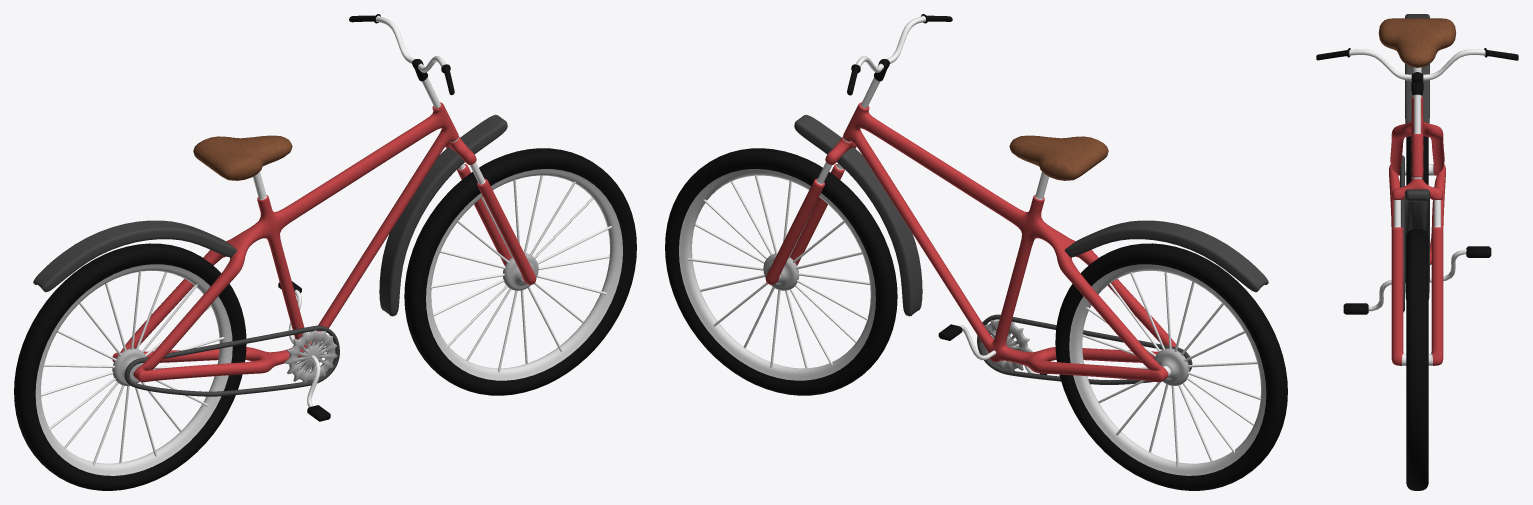
Rendered from bicycle.glb.
The picture shows the model from 3 angles, left to right: view 1: azimuth 30°, elevation 25°; view 2: azimuth 150°, elevation 25°; view 3: azimuth 270°, elevation 25°; orthographic projection.
Visible parts, largest first — view 1: bicycle_body_main_0, bicycle_wheel_forward_0, bicycle_wheel_back_0, bicycle_wheel_forward_1, bicycle_wheel_back_1, bicycle_cover_forward_0, bicycle_cover_back_0, bicycle_needles_forward_0, bicycle_needles_back_0, bicycle_seat_0, bicycle_body_forward_0, bicycle_chain_0 (+3 smaller); view 2: bicycle_body_main_0, bicycle_wheel_forward_0, bicycle_wheel_back_0, bicycle_wheel_forward_1, bicycle_wheel_back_1, bicycle_cover_forward_0, bicycle_cover_back_0, bicycle_needles_forward_0, bicycle_needles_back_0, bicycle_seat_0, bicycle_body_forward_0, bicycle_chain_0 (+4 smaller); view 3: bicycle_wheel_forward_0, bicycle_body_forward_0, bicycle_seat_0, bicycle_body_main_0, bicycle_cover_forward_0, bicycle_helm_1, bicycle_cover_back_0, bicycle_helm_0, bicycle_pedals_0, bicycle_wheel_back_0, bicycle_body_forward_1, bicycle_pedals_1 (+1 smaller).
Part boxes in pixels (x1,y1,x2,y2): bicycle_body_main_0: (112,102,458,382); bicycle_wheel_forward_0: (404,148,636,395); bicycle_wheel_back_0: (14,243,246,490); bicycle_wheel_forward_1: (426,169,622,380); bicycle_wheel_back_1: (35,264,232,475); bicycle_cover_forward_0: (379,114,507,316); bicycle_cover_back_0: (33,220,237,292); bicycle_needles_forward_0: (431,175,612,372); bicycle_needles_back_0: (41,270,224,465); bicycle_seat_0: (193,135,292,180); bicycle_body_forward_0: (445,137,536,284); bicycle_chain_0: (124,325,339,396); bicycle_body_main_0: (843,102,1178,382); bicycle_wheel_forward_0: (665,148,897,395); bicycle_wheel_back_0: (1055,243,1287,490); bicycle_wheel_forward_1: (679,169,875,380); bicycle_wheel_back_1: (1069,264,1266,475); bicycle_cover_forward_0: (794,114,922,316); bicycle_cover_back_0: (1064,220,1268,292); bicycle_needles_forward_0: (687,174,869,368); bicycle_needles_back_0: (1082,272,1261,467); bicycle_seat_0: (1009,135,1108,180); bicycle_body_forward_0: (765,137,856,284); bicycle_chain_0: (977,314,1192,384); bicycle_wheel_forward_0: (1406,229,1428,490); bicycle_body_forward_0: (1391,179,1443,365); bicycle_seat_0: (1378,18,1456,67); bicycle_body_main_0: (1389,97,1445,264); bicycle_cover_forward_0: (1405,189,1429,299); bicycle_helm_1: (1349,49,1485,133); bicycle_cover_back_0: (1405,14,1429,123); bicycle_helm_0: (1316,48,1518,95); bicycle_pedals_0: (1343,246,1491,314); bicycle_wheel_back_0: (1406,136,1428,184); bicycle_body_forward_1: (1394,200,1440,365); bicycle_pedals_1: (1368,249,1466,311).
Bounding box in the file's own units: 2.07 × 1.21 × 0.5889.
Materials: 23 (5 with a texture image).
